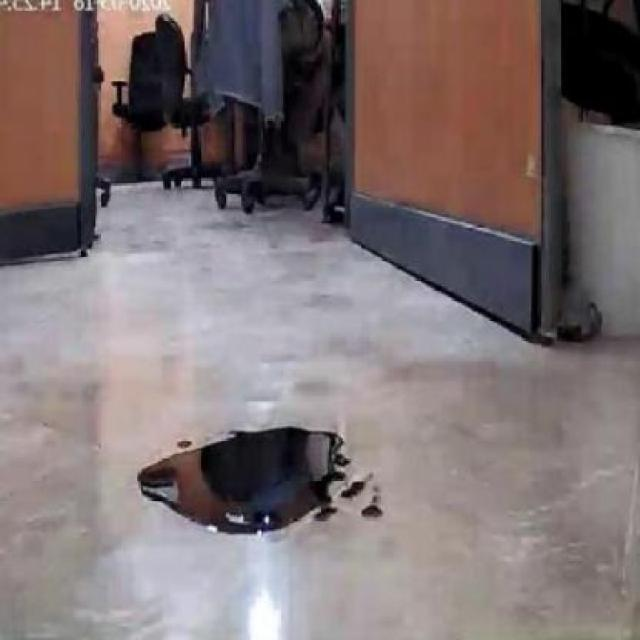spillage: (128, 429, 338, 529)
